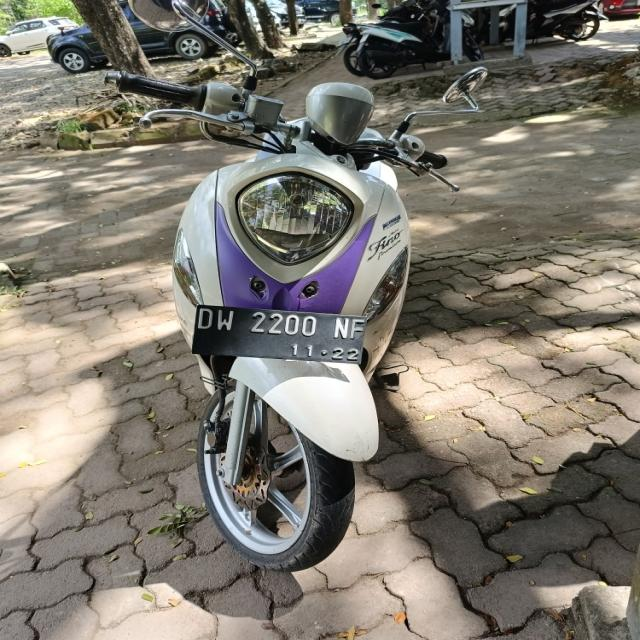plates: (192, 306, 361, 355)
